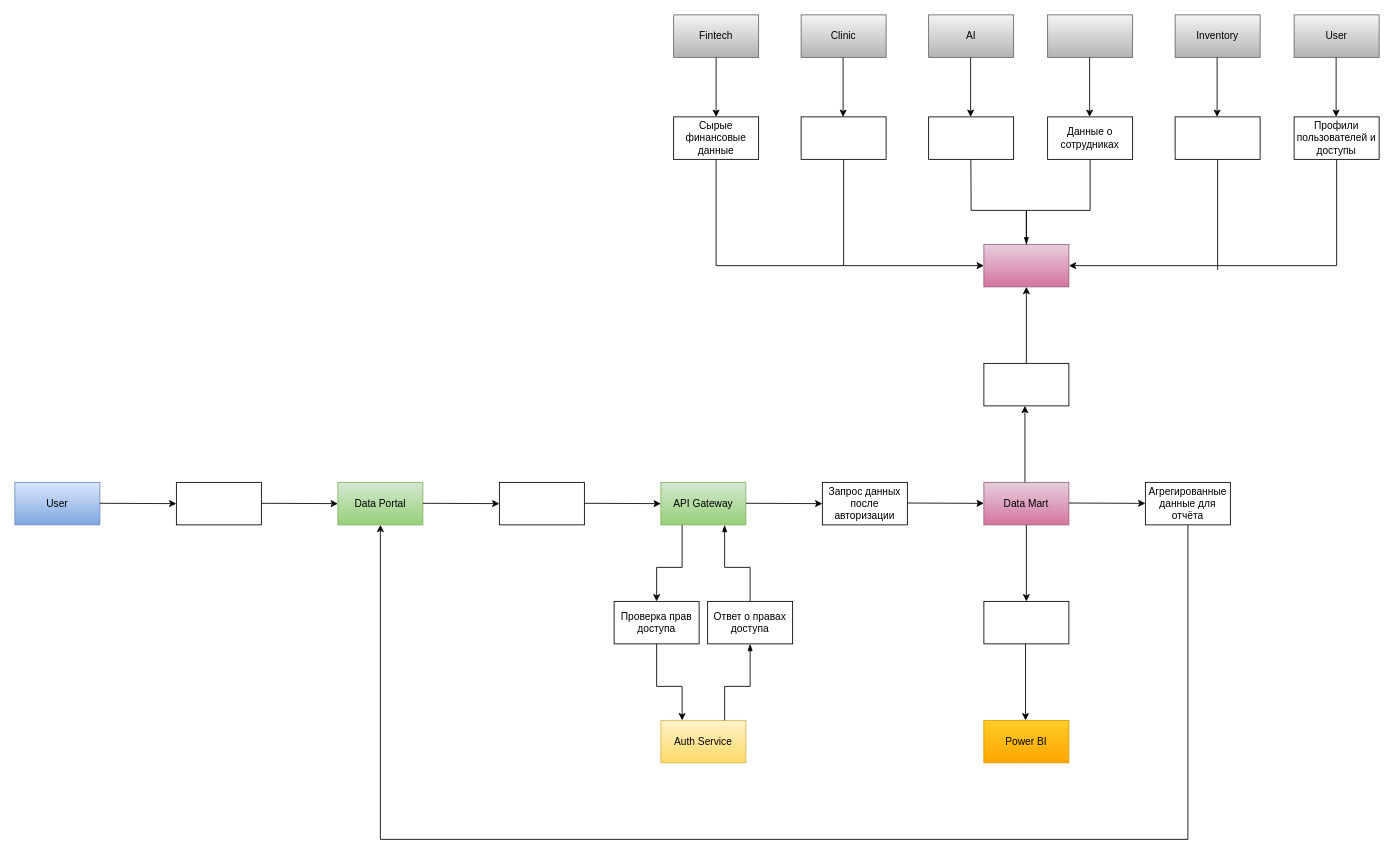
Image size: 1394x861. Some labels were removed from this diagram. Here are the shapes that lost their labels. From the top down, the centre of each, then its label:
At point (1090, 35): "HR".
At point (843, 137): "Сырые медицинские данные".
At point (971, 137): "Диагностические данные".
At point (1217, 137): "Данные о оборудовании и запасах".
At point (1026, 265): "Airflow ETL".
At point (1026, 384): "Загрузка витринных данных".
At point (218, 503): "Запросы на отчёты, фильтры".
At point (541, 503): "API-запросы".
At point (1026, 622): "Данные для визуализации в BI".
